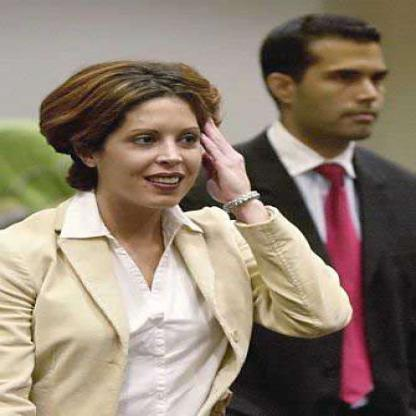face: (86, 66, 205, 211), (288, 17, 391, 141)
